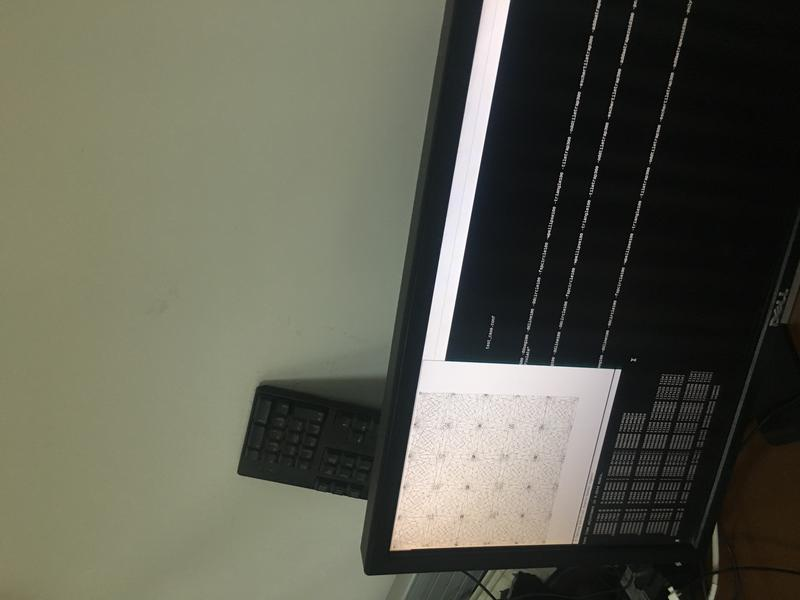xrandr_pass: (391, 350, 621, 562)
